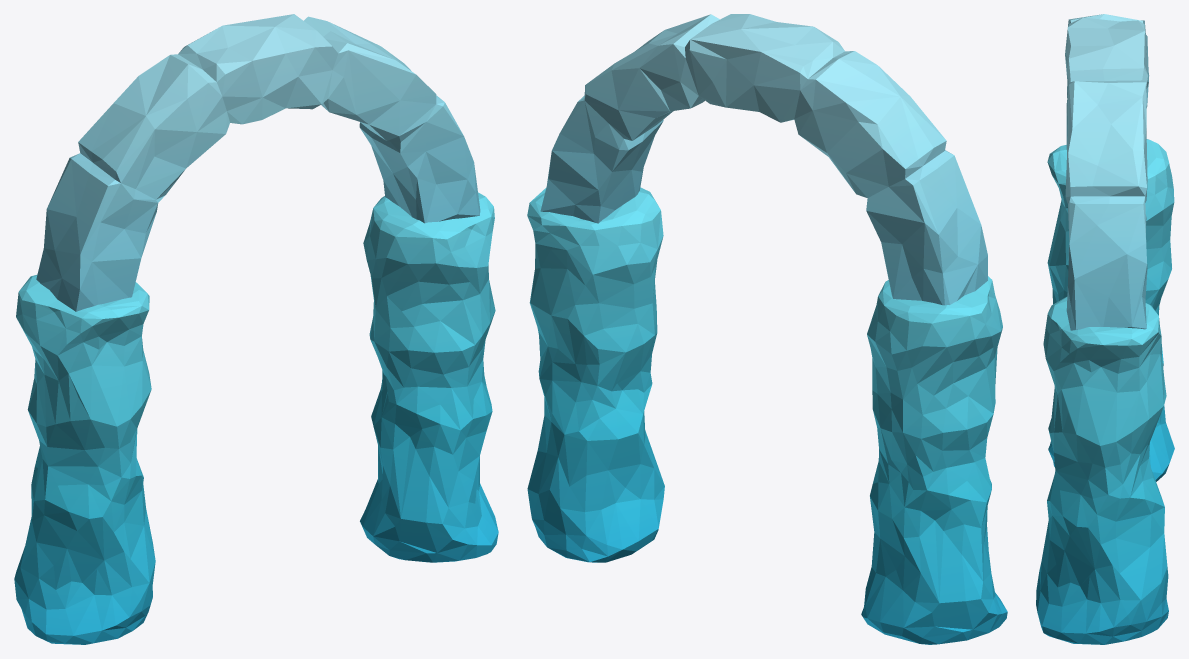
The model's file is arch_001.fbx.
The picture shows the model from 3 angles, left to right: view 1: azimuth 30°, elevation 25°; view 2: azimuth 150°, elevation 25°; view 3: azimuth 270°, elevation 25°; orthographic projection. The views are drawn at different scales.
Visible parts, largest first — view 1: arch_001; view 2: arch_001; view 3: arch_001.
Part boxes in pixels (box(x1,y1,x2,y2)): arch_001: box(14, 14, 498, 644); arch_001: box(527, 14, 1007, 644); arch_001: box(1036, 14, 1174, 644).
Bounding box in the file's own units: 529 × 148 × 602.
